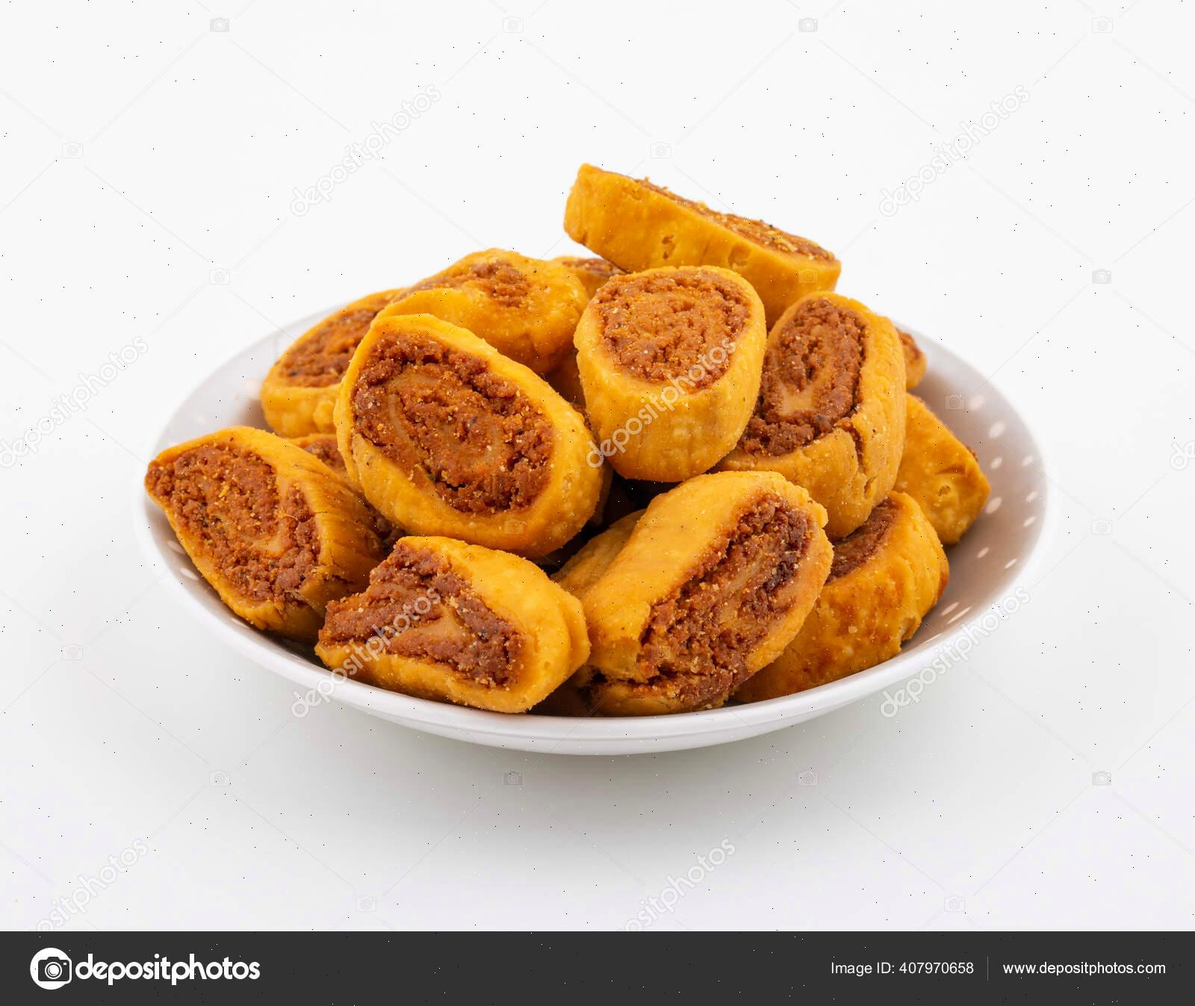bhakarwadi: (161, 152, 984, 718)
